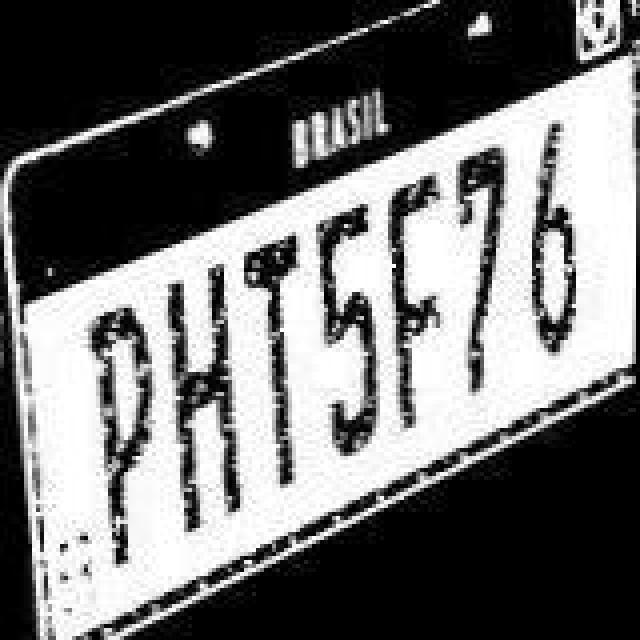5: (316, 202, 380, 478)
6: (520, 114, 588, 366)
7: (446, 140, 522, 404)
F: (386, 166, 446, 442)
H: (164, 258, 252, 542)
P: (86, 294, 158, 570)
T: (244, 222, 308, 498)
